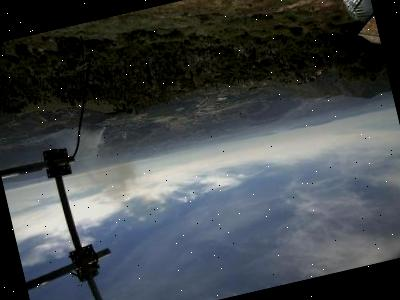smoke: (66, 123, 130, 210)
